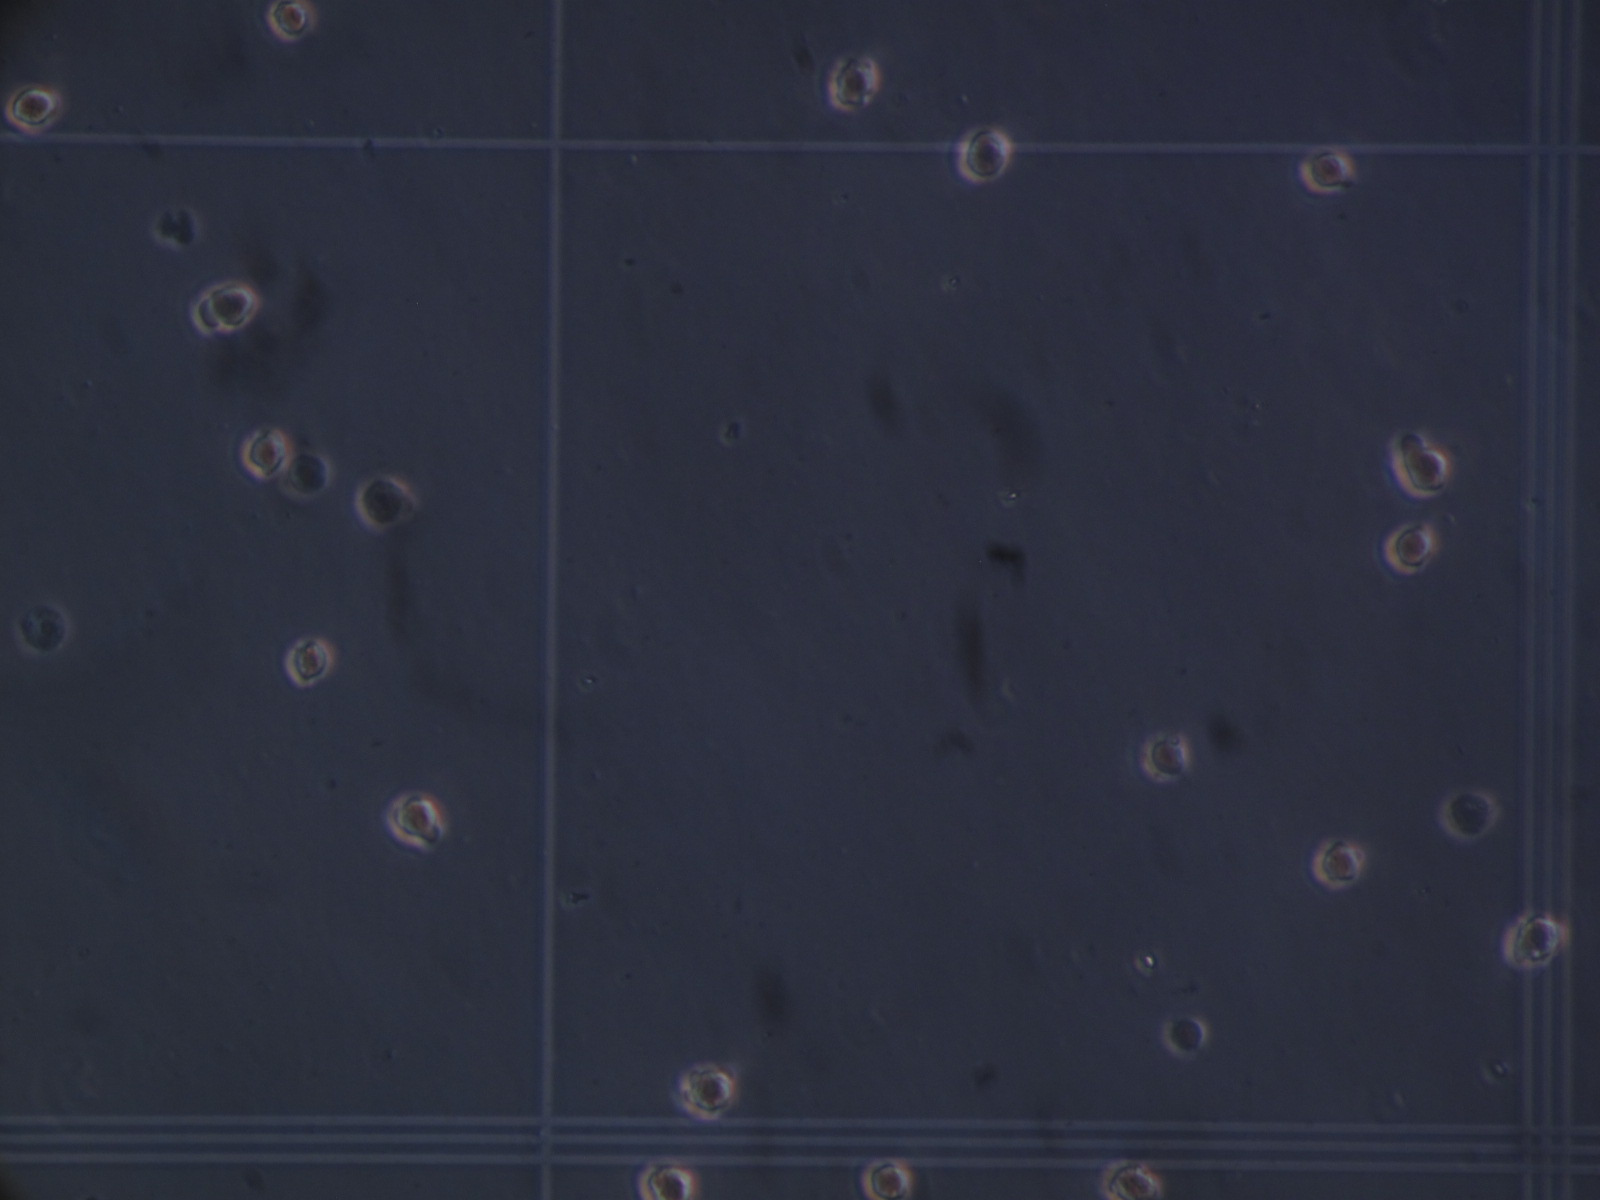hemo: (1504, 913, 1569, 969), (1437, 785, 1498, 841), (5, 82, 67, 136), (389, 789, 443, 850), (678, 1061, 732, 1121), (1393, 444, 1453, 498), (355, 475, 409, 532), (1382, 522, 1440, 575), (959, 125, 1010, 182), (13, 603, 71, 653), (207, 284, 263, 332), (1298, 146, 1353, 194), (1099, 1161, 1164, 1200), (241, 427, 291, 478), (281, 451, 333, 500), (1311, 838, 1361, 890), (285, 637, 333, 689), (831, 58, 879, 108), (1143, 732, 1189, 780), (637, 1163, 698, 1200), (864, 1158, 912, 1200), (268, 1, 317, 42), (1167, 1013, 1207, 1060)
